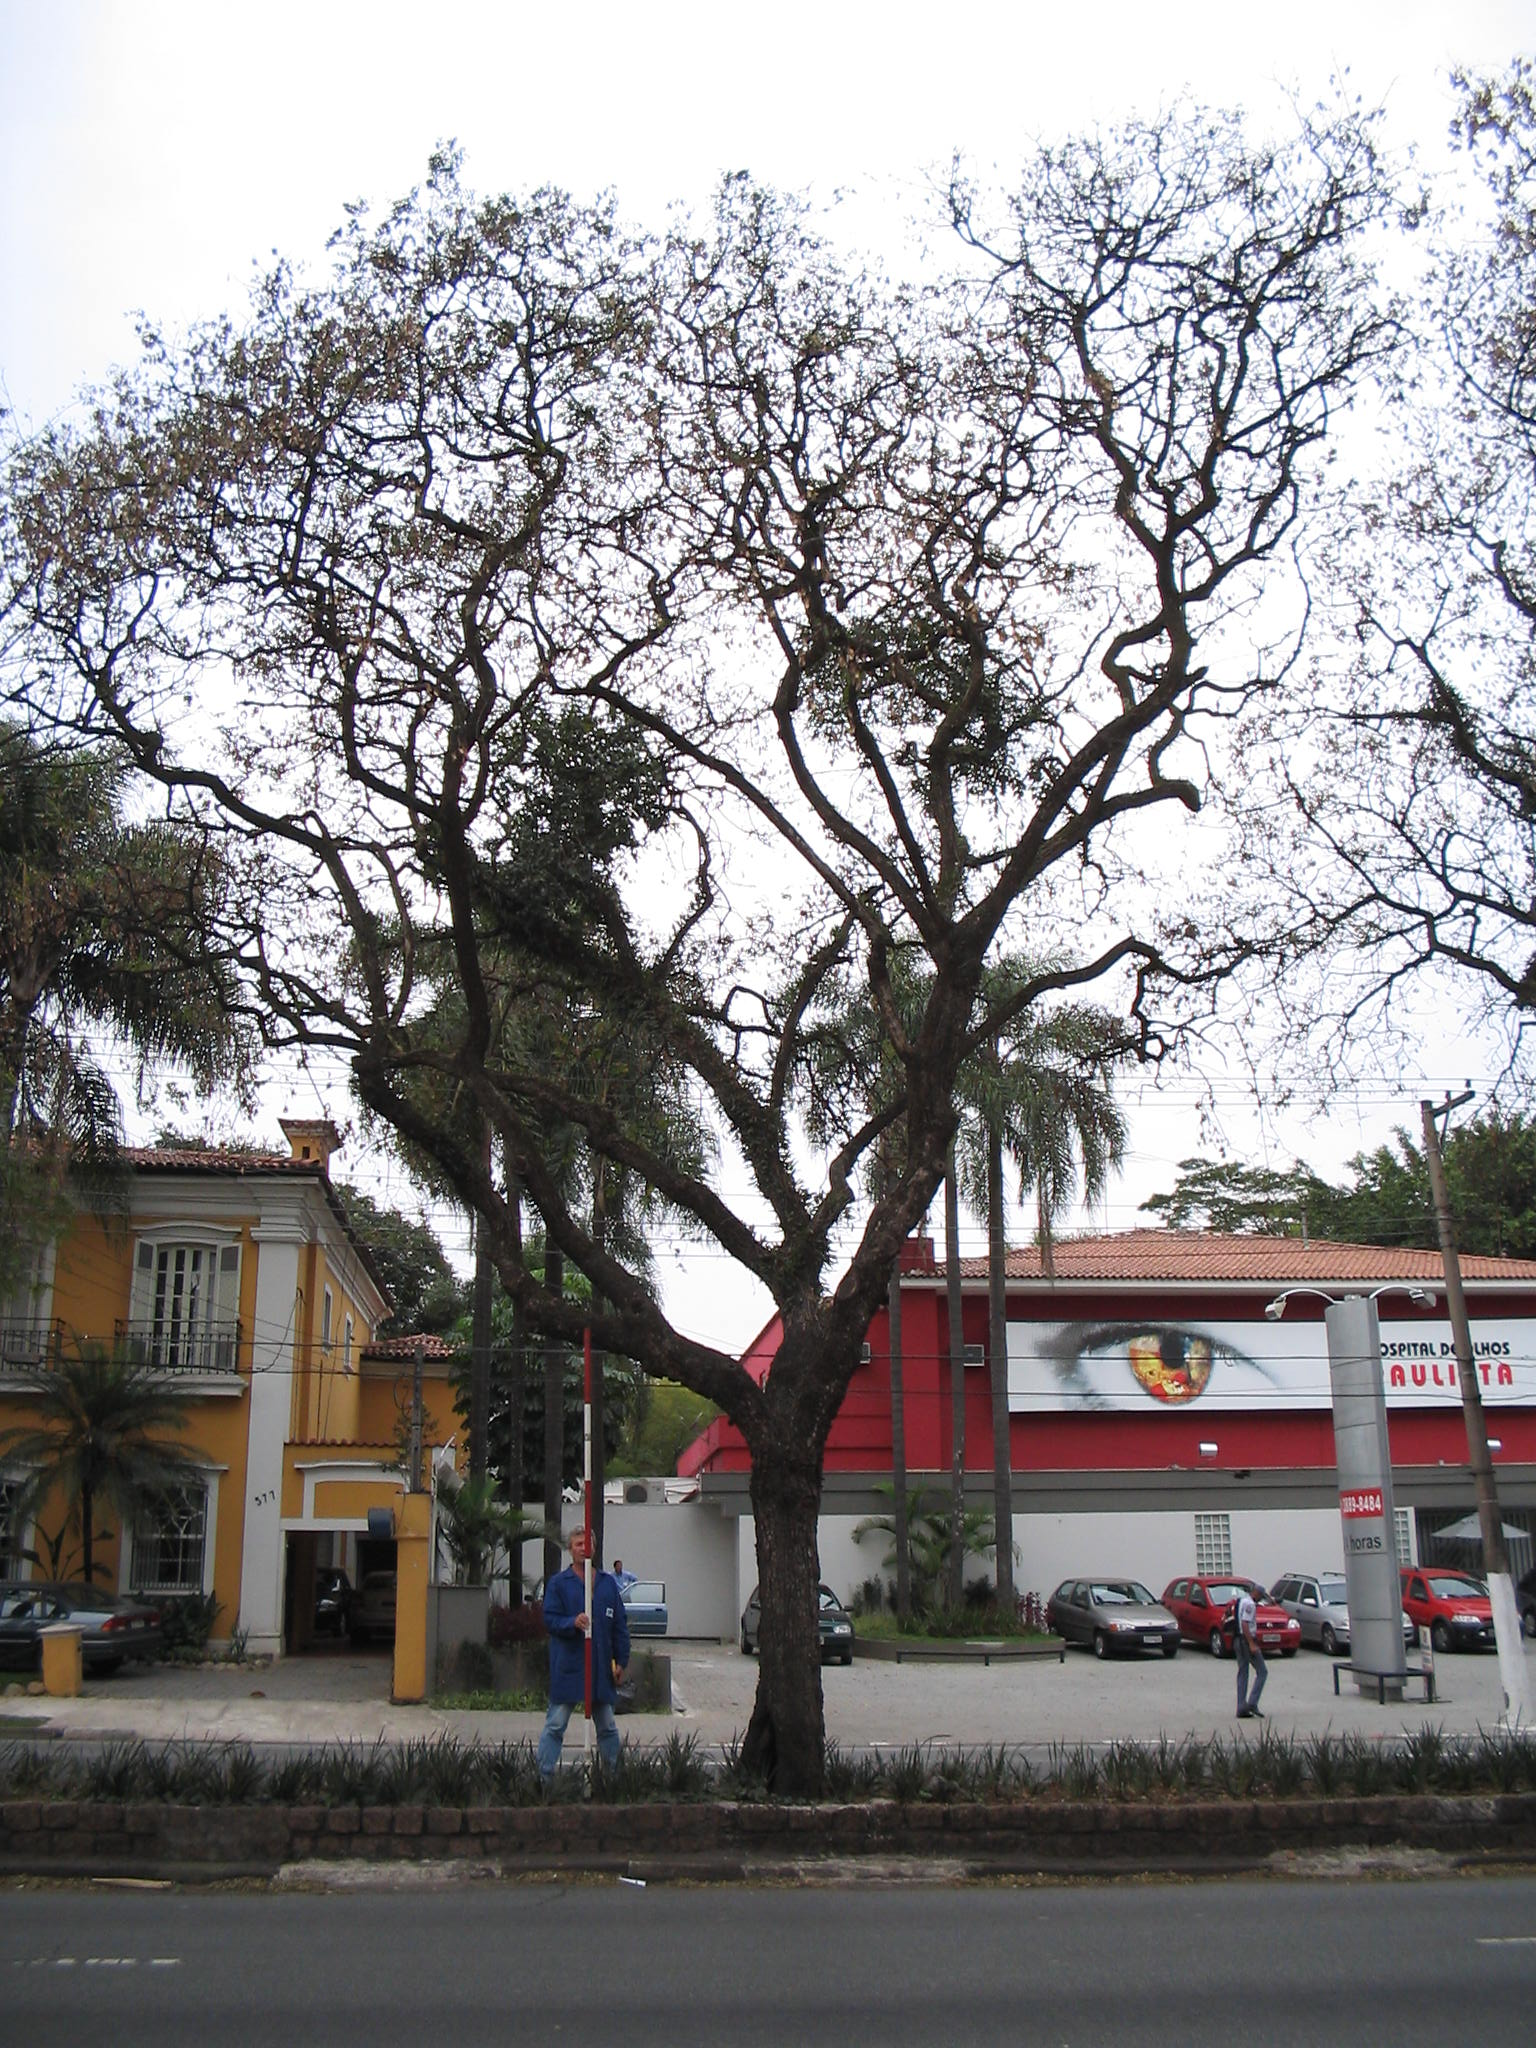stem: (694, 1411, 895, 1800)
stick: (552, 1324, 632, 1803)
tree: (2, 45, 1423, 1803)
